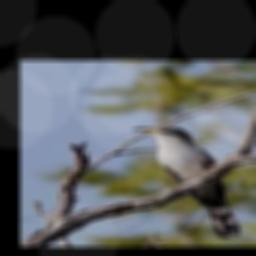Cuckoo: (132, 127, 241, 237)
